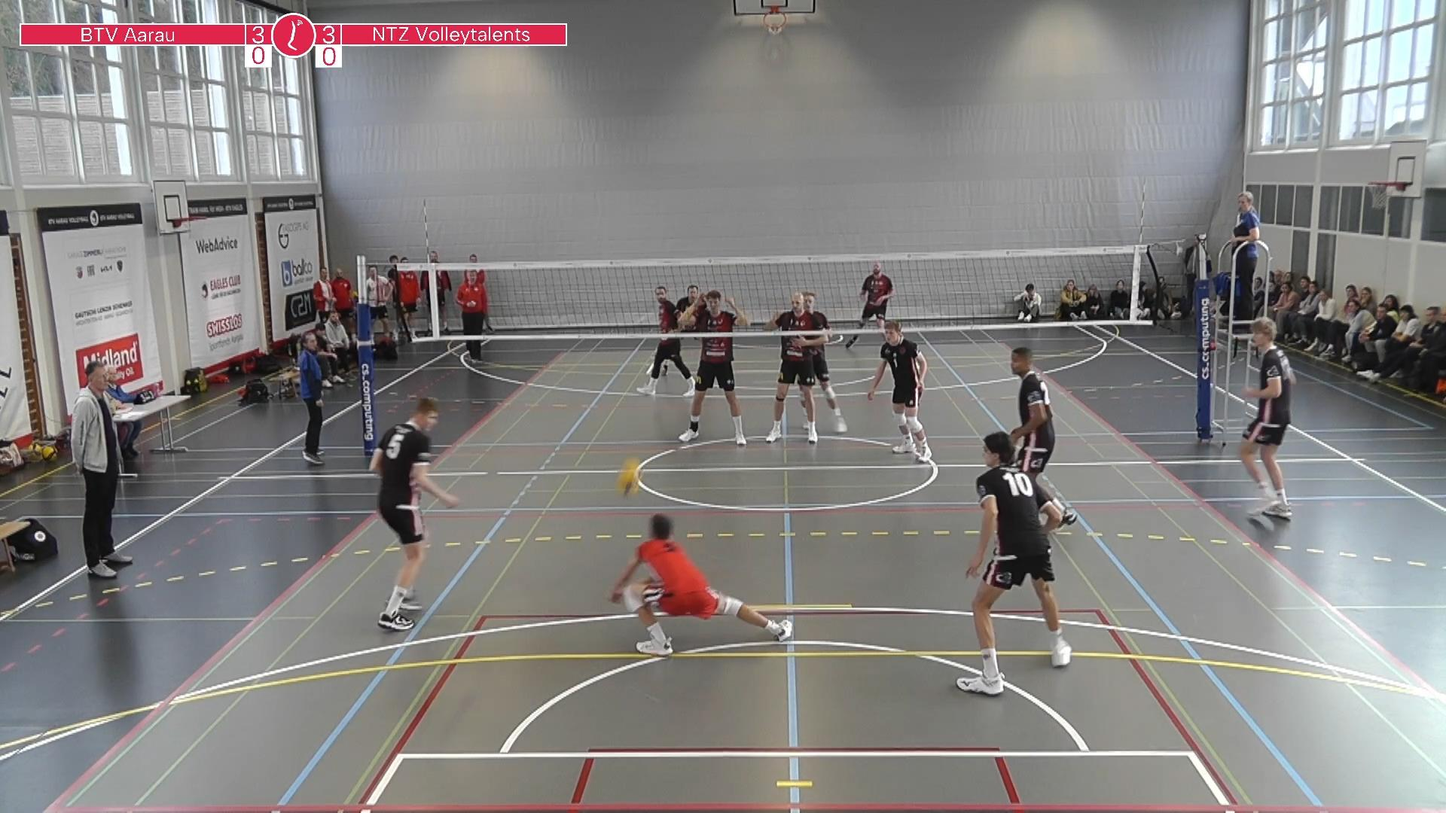ricezione: (609, 513, 799, 657)
